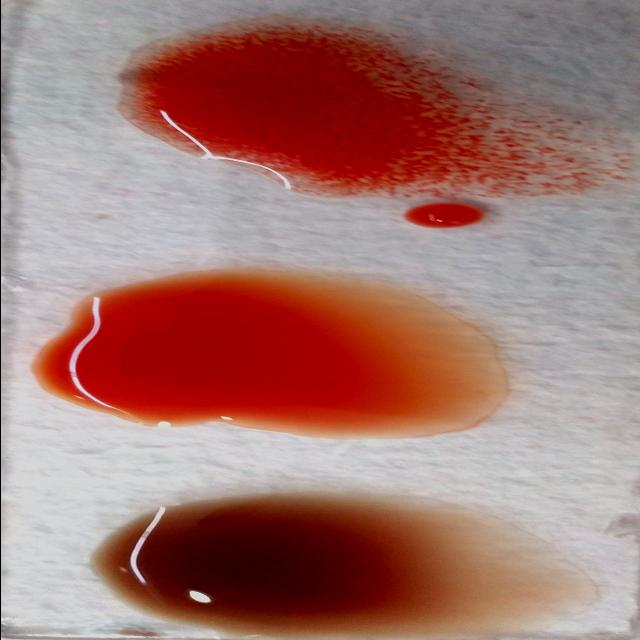D: (127, 31, 603, 192)
